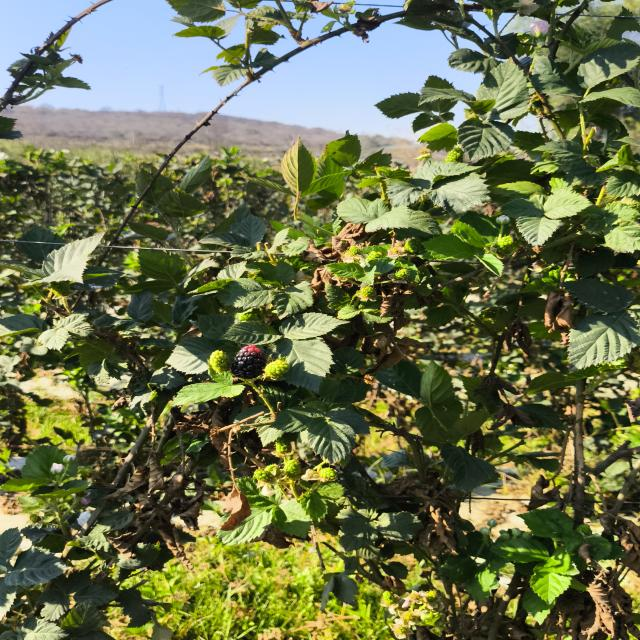marron: (230, 345, 265, 379)
verde: (264, 358, 289, 379), (208, 350, 229, 374)
